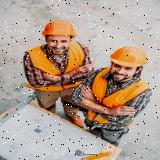Helmet: (109, 45, 149, 68), (42, 19, 78, 38)
Vest: (87, 66, 153, 125), (26, 40, 86, 93)
